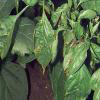Bell_pepper leaf spot: (31, 16, 54, 76), (62, 38, 91, 80), (0, 15, 20, 60)
